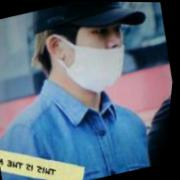WRONG: (60, 10, 138, 97)
